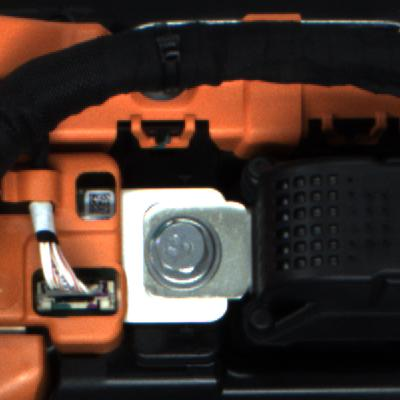nut_b: (140, 207, 249, 296)
